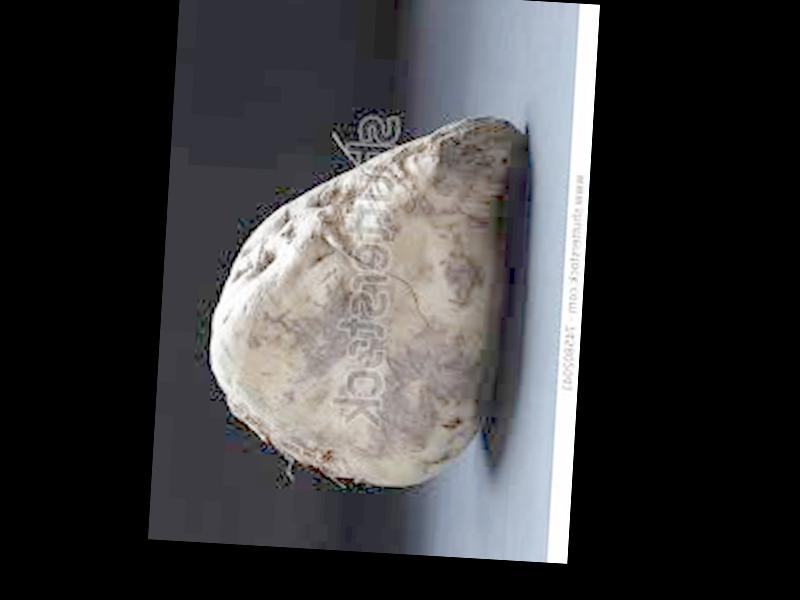Beet: (205, 106, 521, 497)
